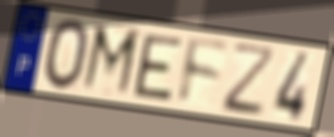4: (270, 49, 309, 124)
E: (132, 32, 185, 104)
F: (176, 34, 232, 108)
M: (78, 20, 144, 101)
O: (42, 16, 91, 93)
Z: (221, 42, 278, 119)
